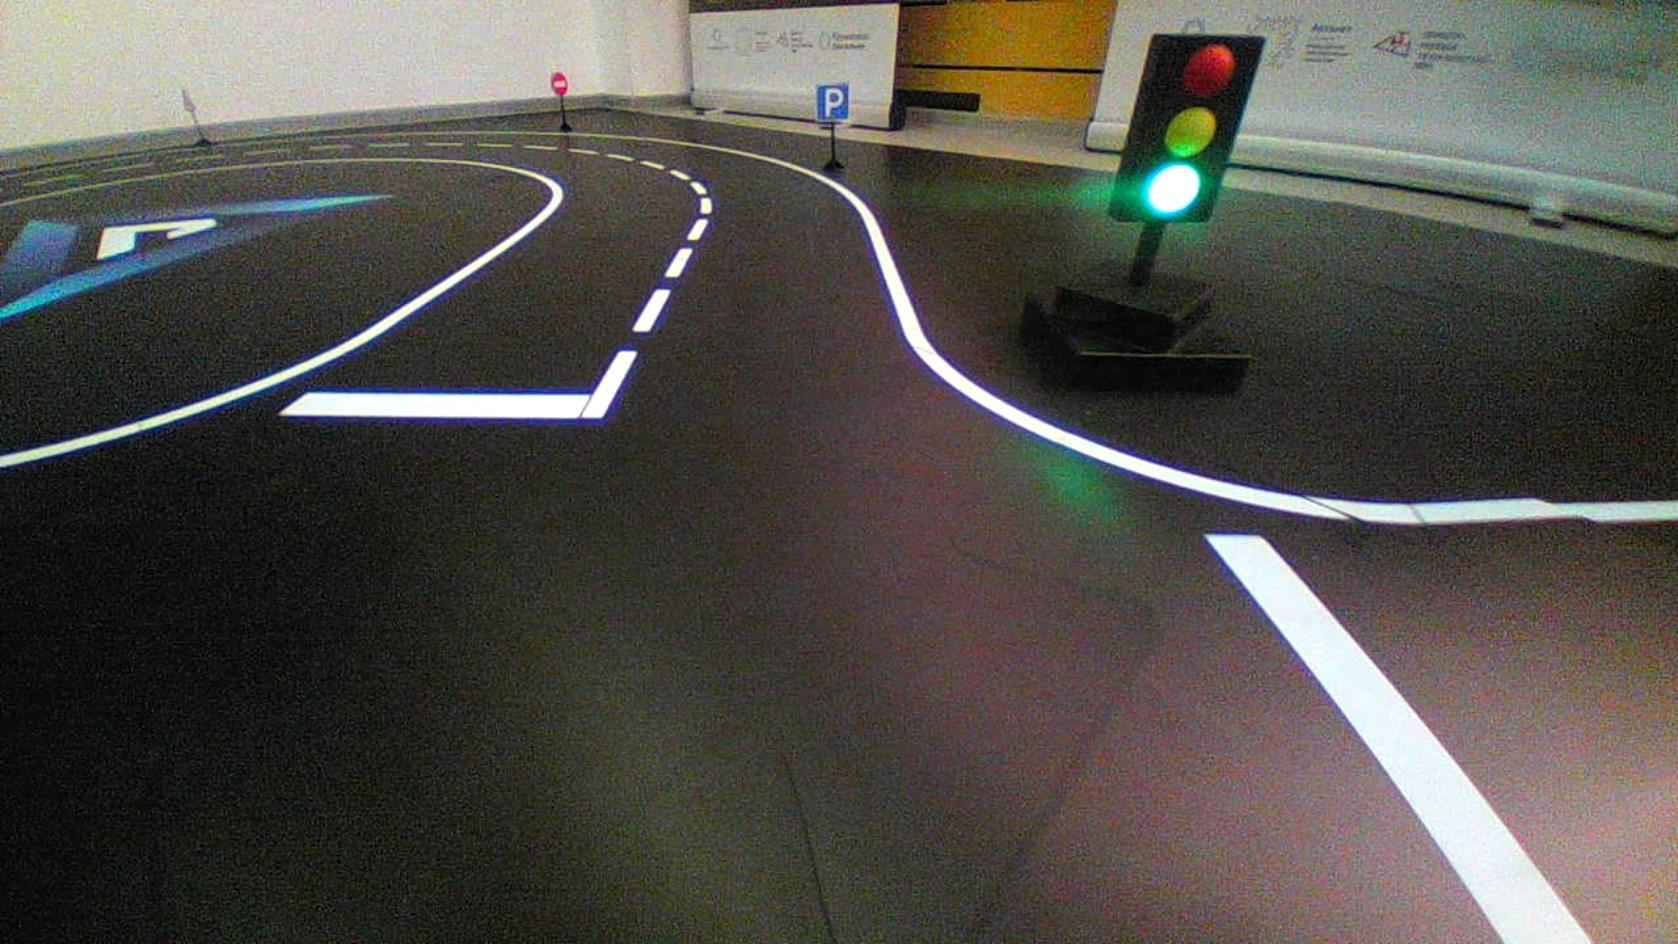trafficlight: (1106, 33, 1267, 222)
